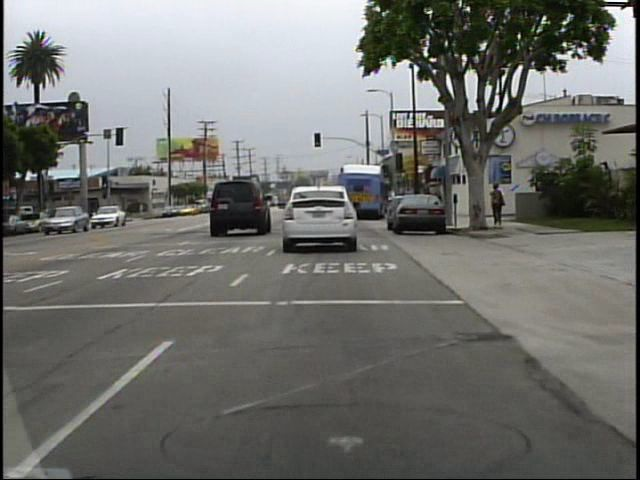person: (486, 180, 506, 228), (490, 182, 505, 225), (137, 199, 148, 220)
